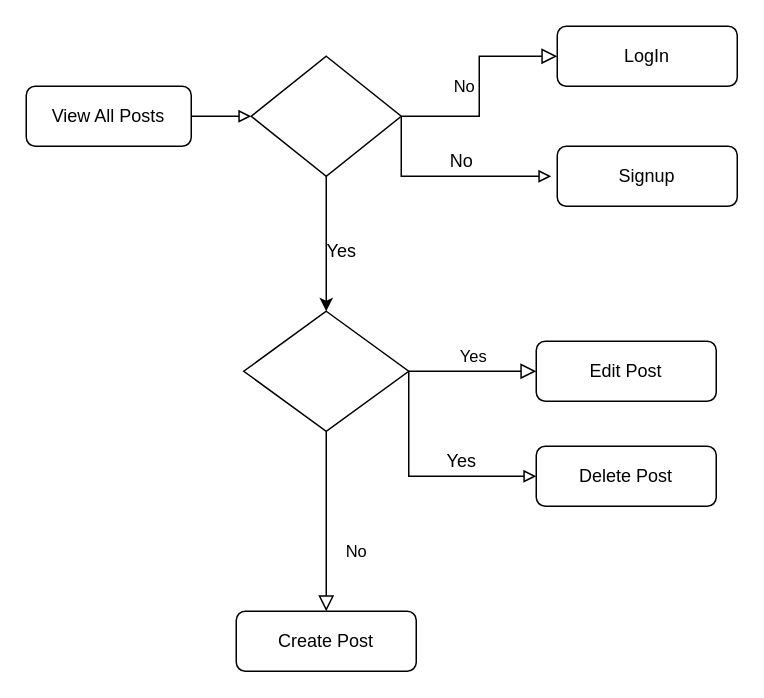
This 764x698 diagram has some shape labels left out. Each missing label, with the centre of its shape:
"Logged In" belongs at (325,115).
"Post exists" belongs at (325,370).
